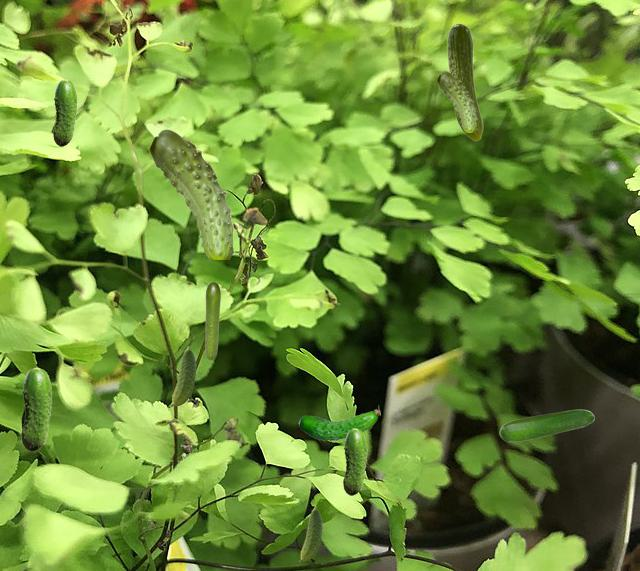cucumber: (149, 129, 234, 258), (447, 23, 482, 140), (499, 409, 593, 441), (298, 405, 379, 440), (21, 367, 51, 450), (437, 71, 476, 131), (168, 346, 195, 406), (53, 79, 76, 145), (343, 428, 366, 494), (297, 506, 321, 561), (205, 282, 219, 359)
